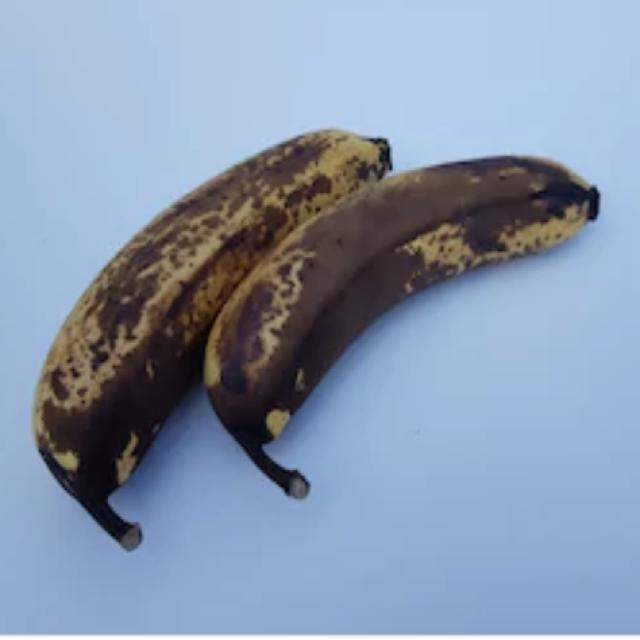banana: (33, 131, 391, 549), (204, 157, 599, 497)
